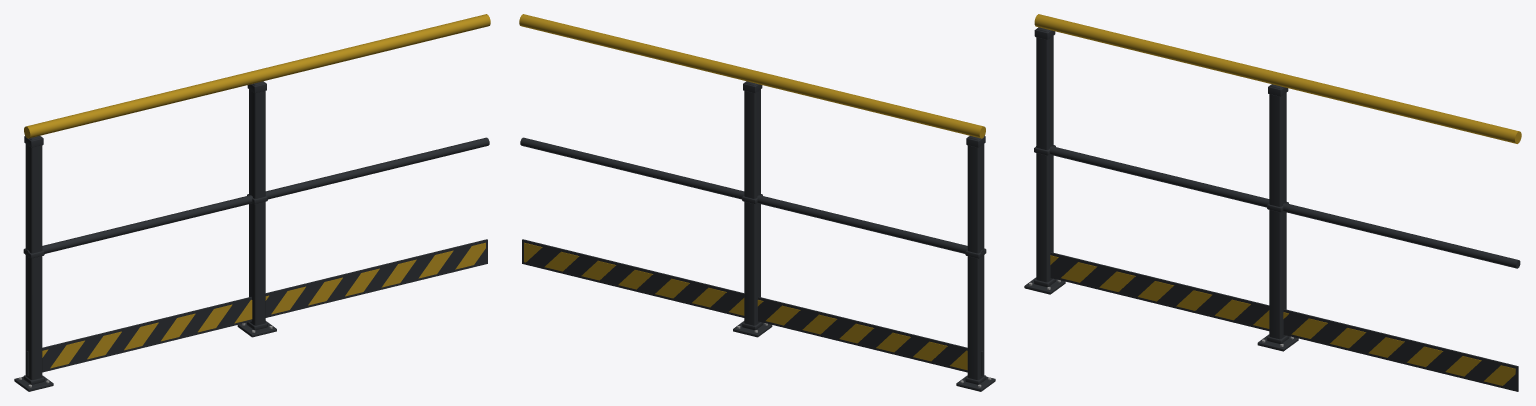
Rendered from Railing_2m.fbx.
3 renders of one model, left to right at view 1: azimuth 30°, elevation 25°; view 2: azimuth 150°, elevation 25°; view 3: azimuth 330°, elevation 25°, orthographic. The views are drawn at different scales.
Visible parts, largest first — view 1: Railing_2m_LOD0; view 2: Railing_2m_LOD0; view 3: Railing_2m_LOD0.
Part boxes in pixels (x1,y1,x2,y2): Railing_2m_LOD0: [14, 14, 490, 391]; Railing_2m_LOD0: [519, 14, 995, 391]; Railing_2m_LOD0: [1024, 14, 1521, 391].
Size of what is drawn, in the model's own units: 2.02 by 1.07 by 0.11.
